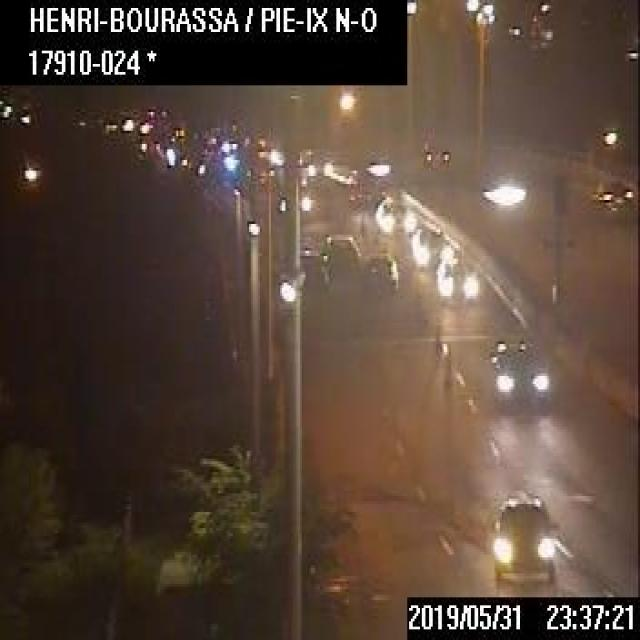vehicle: (491, 493, 556, 584), (487, 336, 549, 405), (321, 232, 360, 285), (411, 226, 453, 272), (434, 256, 476, 296), (374, 196, 416, 235), (360, 253, 398, 296), (580, 178, 631, 210), (288, 248, 328, 288), (420, 136, 451, 168)
